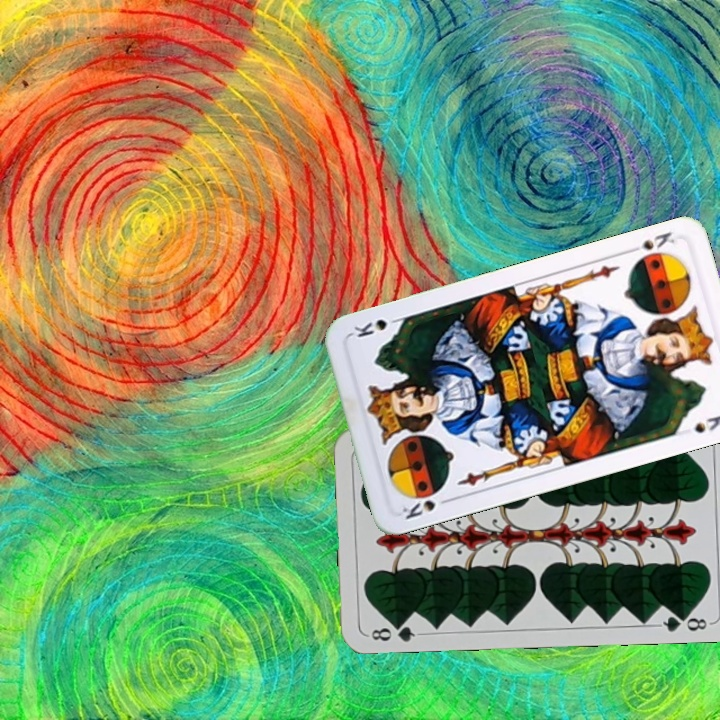G8: (367, 617, 424, 644)
SK: (398, 494, 455, 522), (624, 227, 677, 256)
